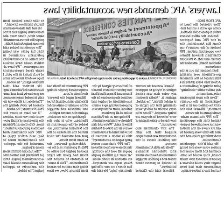news_paper: (0, 0, 224, 173)
